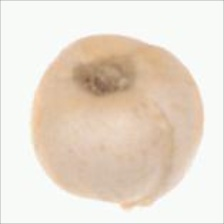L4: (31, 34, 205, 210)
